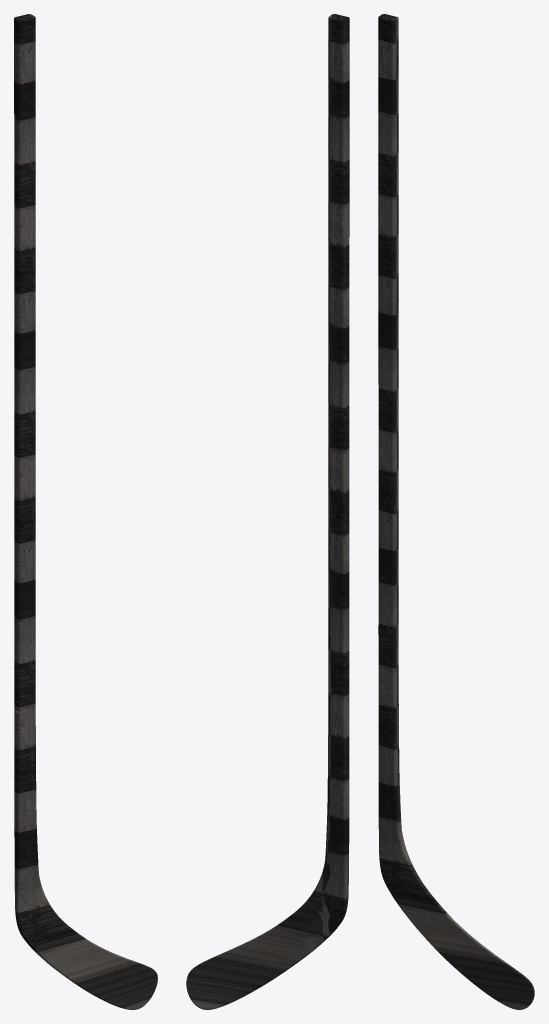
The picture shows the model from 3 angles, left to right: view 1: azimuth 30°, elevation 25°; view 2: azimuth 150°, elevation 25°; view 3: azimuth 330°, elevation 25°; orthographic projection. The views are drawn at different scales.
Parts seen in each view (by area): view 1: geometry_0; view 2: geometry_0; view 3: geometry_0.
Part boxes in pixels (x1=…): geometry_0: x1=14, y1=14, x2=157, y2=1009; geometry_0: x1=186, y1=14, x2=349, y2=1009; geometry_0: x1=378, y1=14, x2=534, y2=1009.
Bounding box in the file's own units: 256 × 1650 × 46.74.
Materials: 1 (1 with a texture image).
